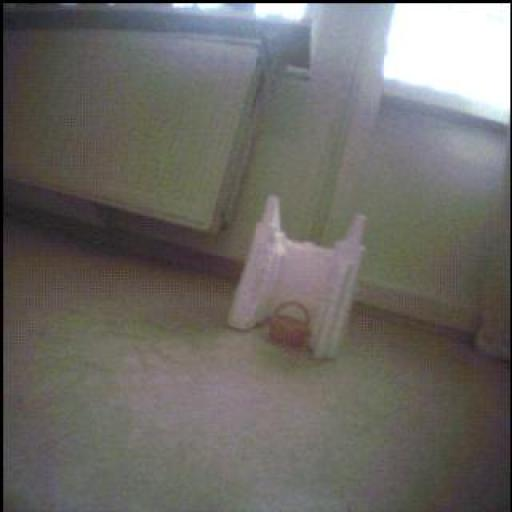Basket: (270, 302, 311, 348)
